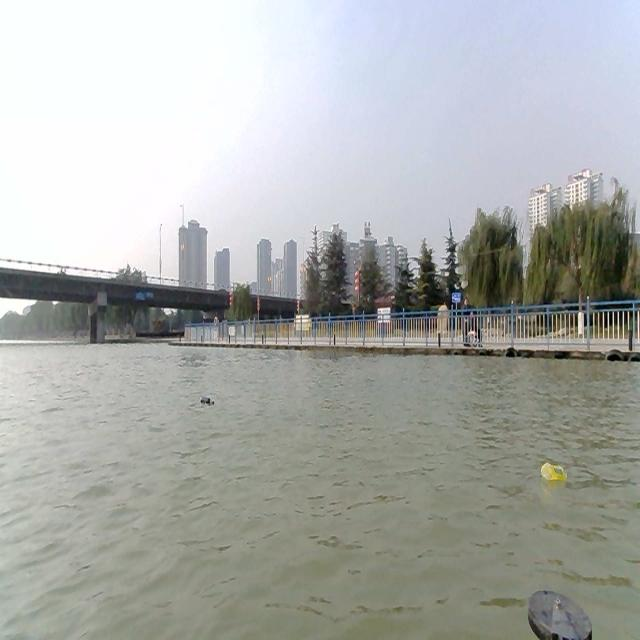bottle: (541, 462, 567, 479), (200, 396, 214, 404)
